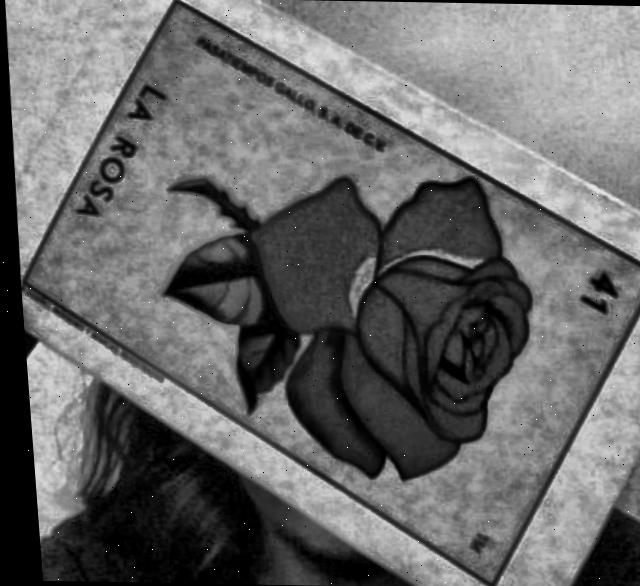La Rosa: (19, 0, 640, 586)
